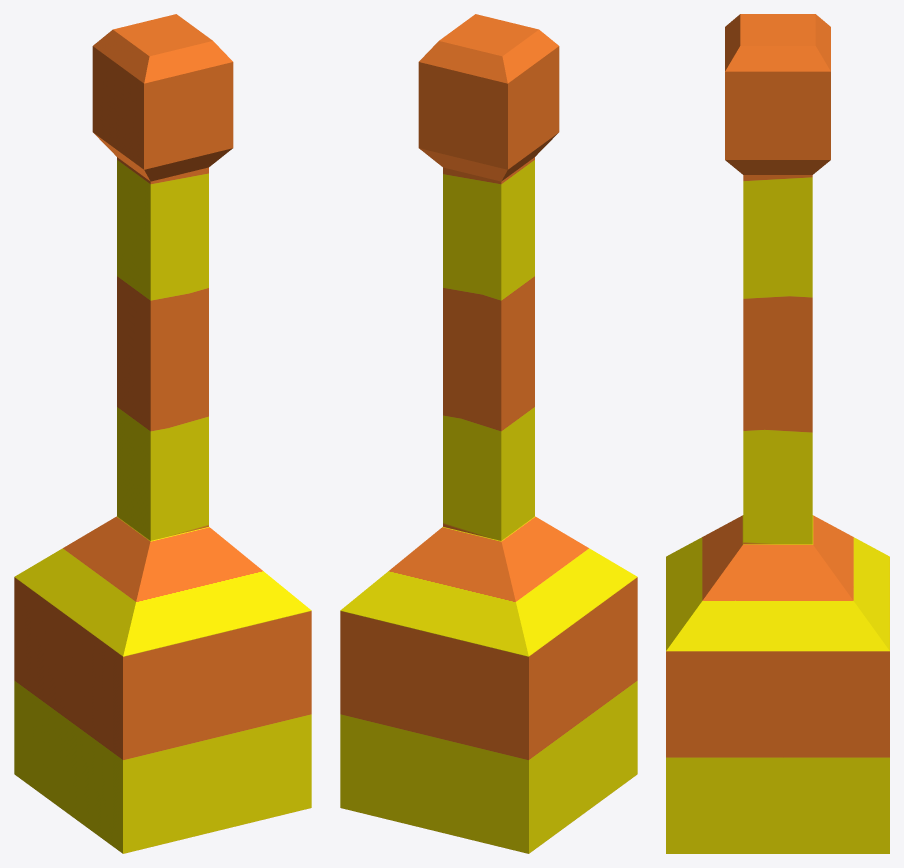
The model's file is bollard.gltf.
3 renders of one model, left to right at view 1: azimuth 30°, elevation 25°; view 2: azimuth 150°, elevation 25°; view 3: azimuth 270°, elevation 25°, orthographic. The views are drawn at different scales.
Visible parts, largest first — view 1: Cube; view 2: Cube; view 3: Cube.
Boxes of the visible parts, <box> form: Cube: <box>14,14,311,853</box>; Cube: <box>340,14,637,853</box>; Cube: <box>666,14,889,853</box>.
Size of the model in its own units: 2 by 7.66 by 2.
1 material, 1 textured.
